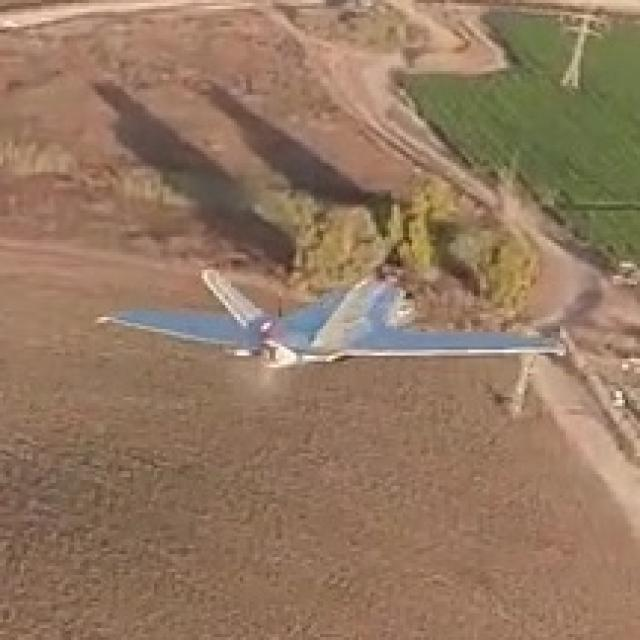iha: (89, 296, 554, 347)
